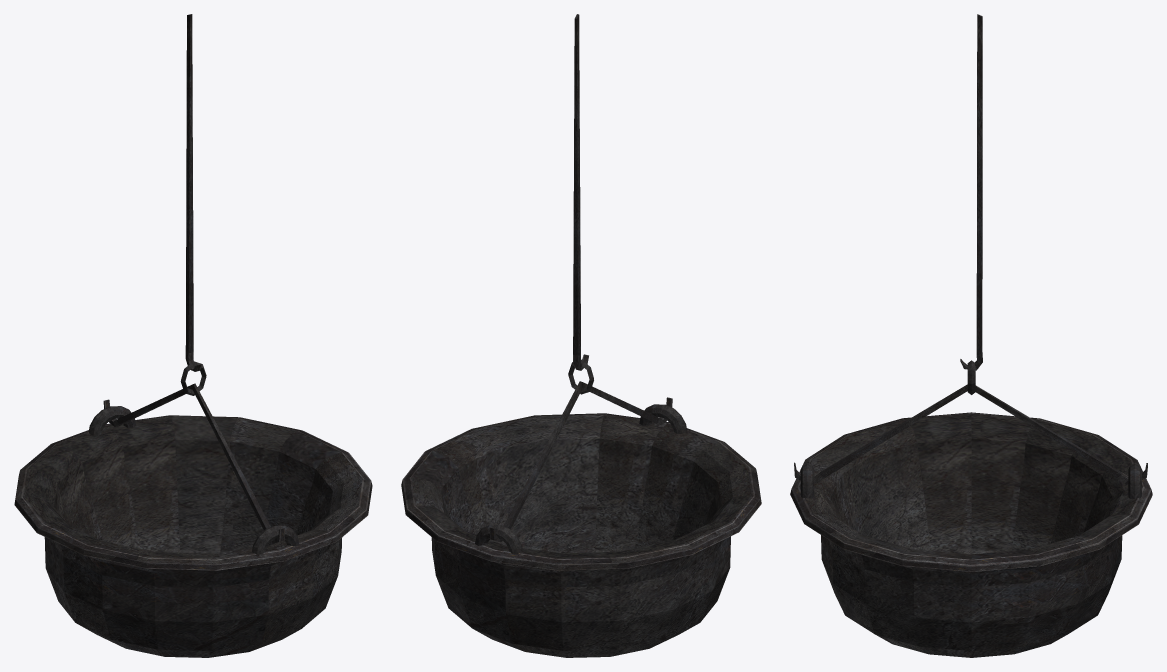
The model's file is tavern_cooker.dae.
3 renders of one model, left to right at view 1: azimuth 30°, elevation 25°; view 2: azimuth 150°, elevation 25°; view 3: azimuth 270°, elevation 25°, orthographic.
Visible parts, largest first — view 1: Default_Layer; view 2: Default_Layer; view 3: Default_Layer.
Boxes of the visible parts, box(x1,y1,x2,y2) form: Default_Layer: box(14, 14, 372, 657); Default_Layer: box(401, 14, 761, 657); Default_Layer: box(790, 14, 1152, 657).
Size of the model in its own units: 6.2 by 11.34 by 6.2.
